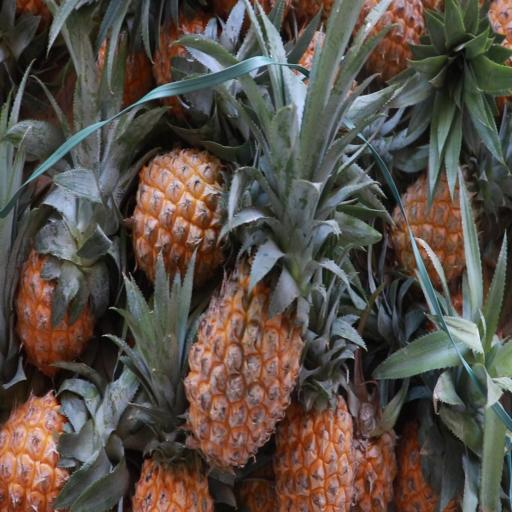Pineapple - v8 v1: (178, 230, 307, 473), (125, 142, 264, 302), (12, 199, 106, 371), (0, 379, 113, 512), (388, 156, 484, 299), (270, 367, 359, 512), (130, 366, 218, 512)
